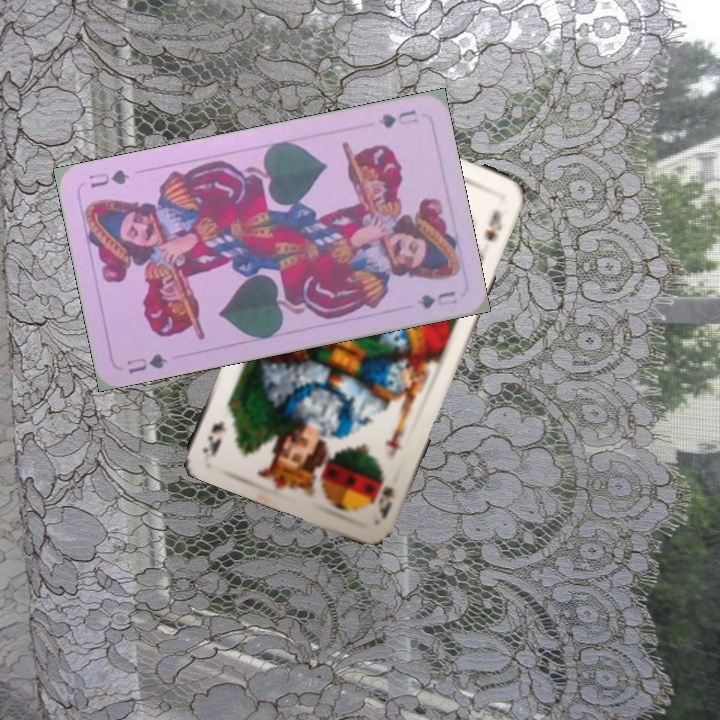GU: (122, 349, 170, 377), (373, 105, 421, 131)
SK: (373, 482, 398, 522)
